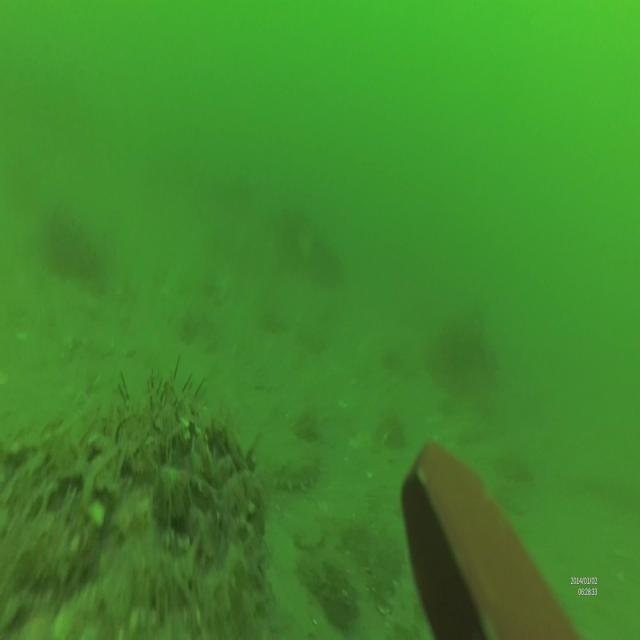holothurian: (271, 447, 327, 498)
